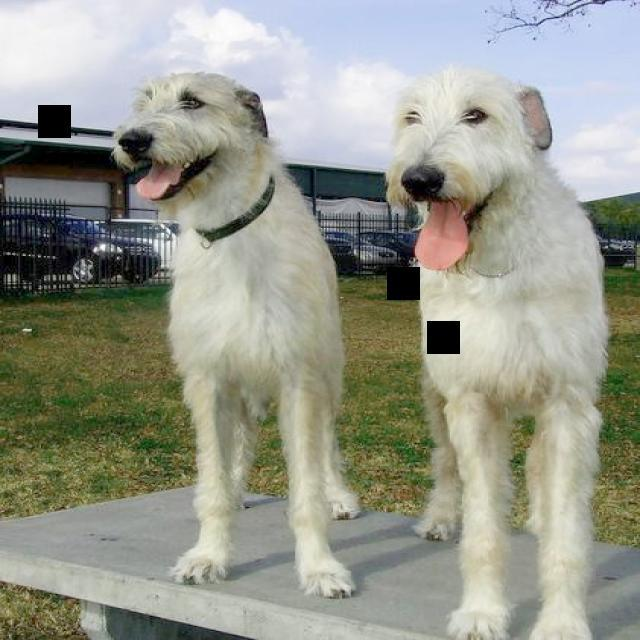adult_dog: (110, 70, 364, 600), (386, 68, 609, 640)
